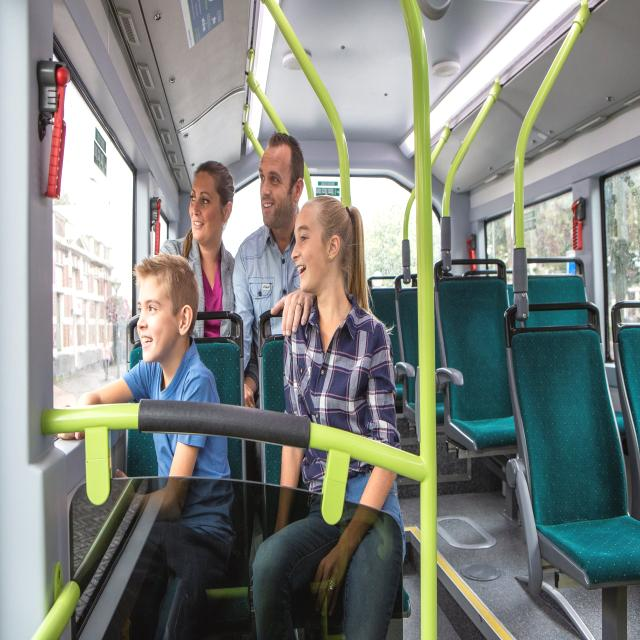asiento-libre: (504, 301, 640, 597), (434, 259, 518, 457), (394, 273, 445, 436), (508, 256, 600, 330), (611, 300, 640, 518), (367, 276, 405, 416)
